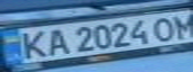0: (90, 21, 115, 51)
2: (69, 24, 97, 53), (109, 19, 133, 48)
4: (127, 17, 154, 45)
A: (42, 26, 72, 56)
K: (12, 28, 54, 61)
M: (166, 11, 193, 39)
O: (148, 15, 181, 42)
